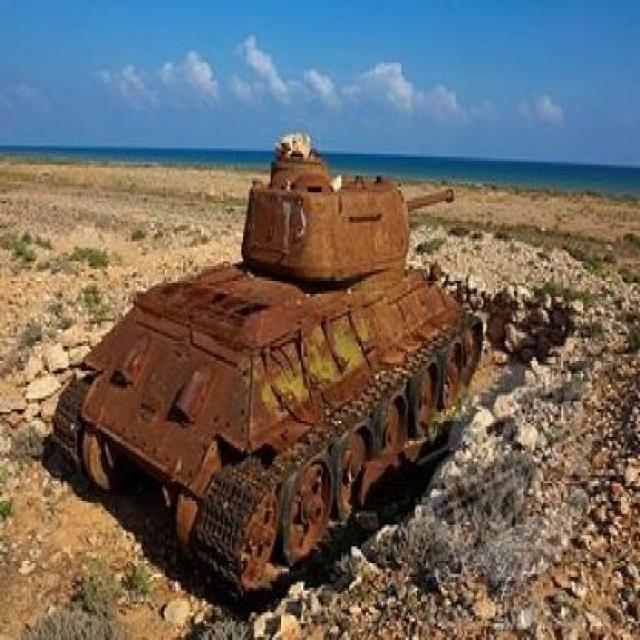corrosion: (49, 132, 488, 606)
